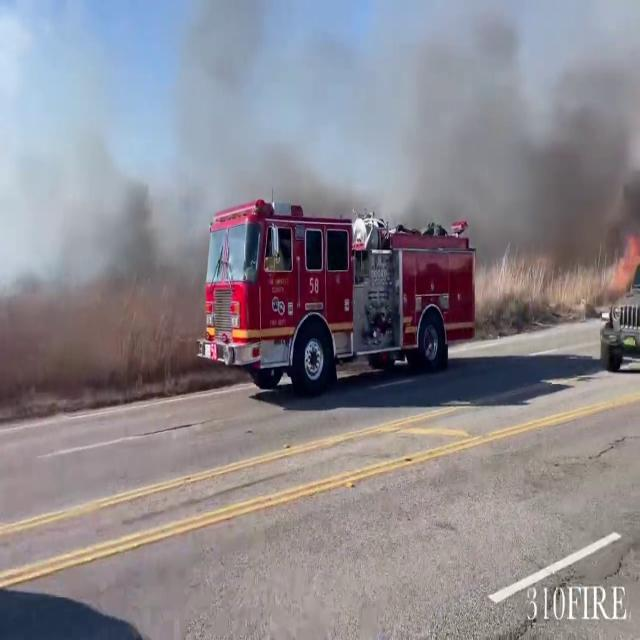Smoke: (0, 5, 200, 380), (387, 0, 640, 266)
